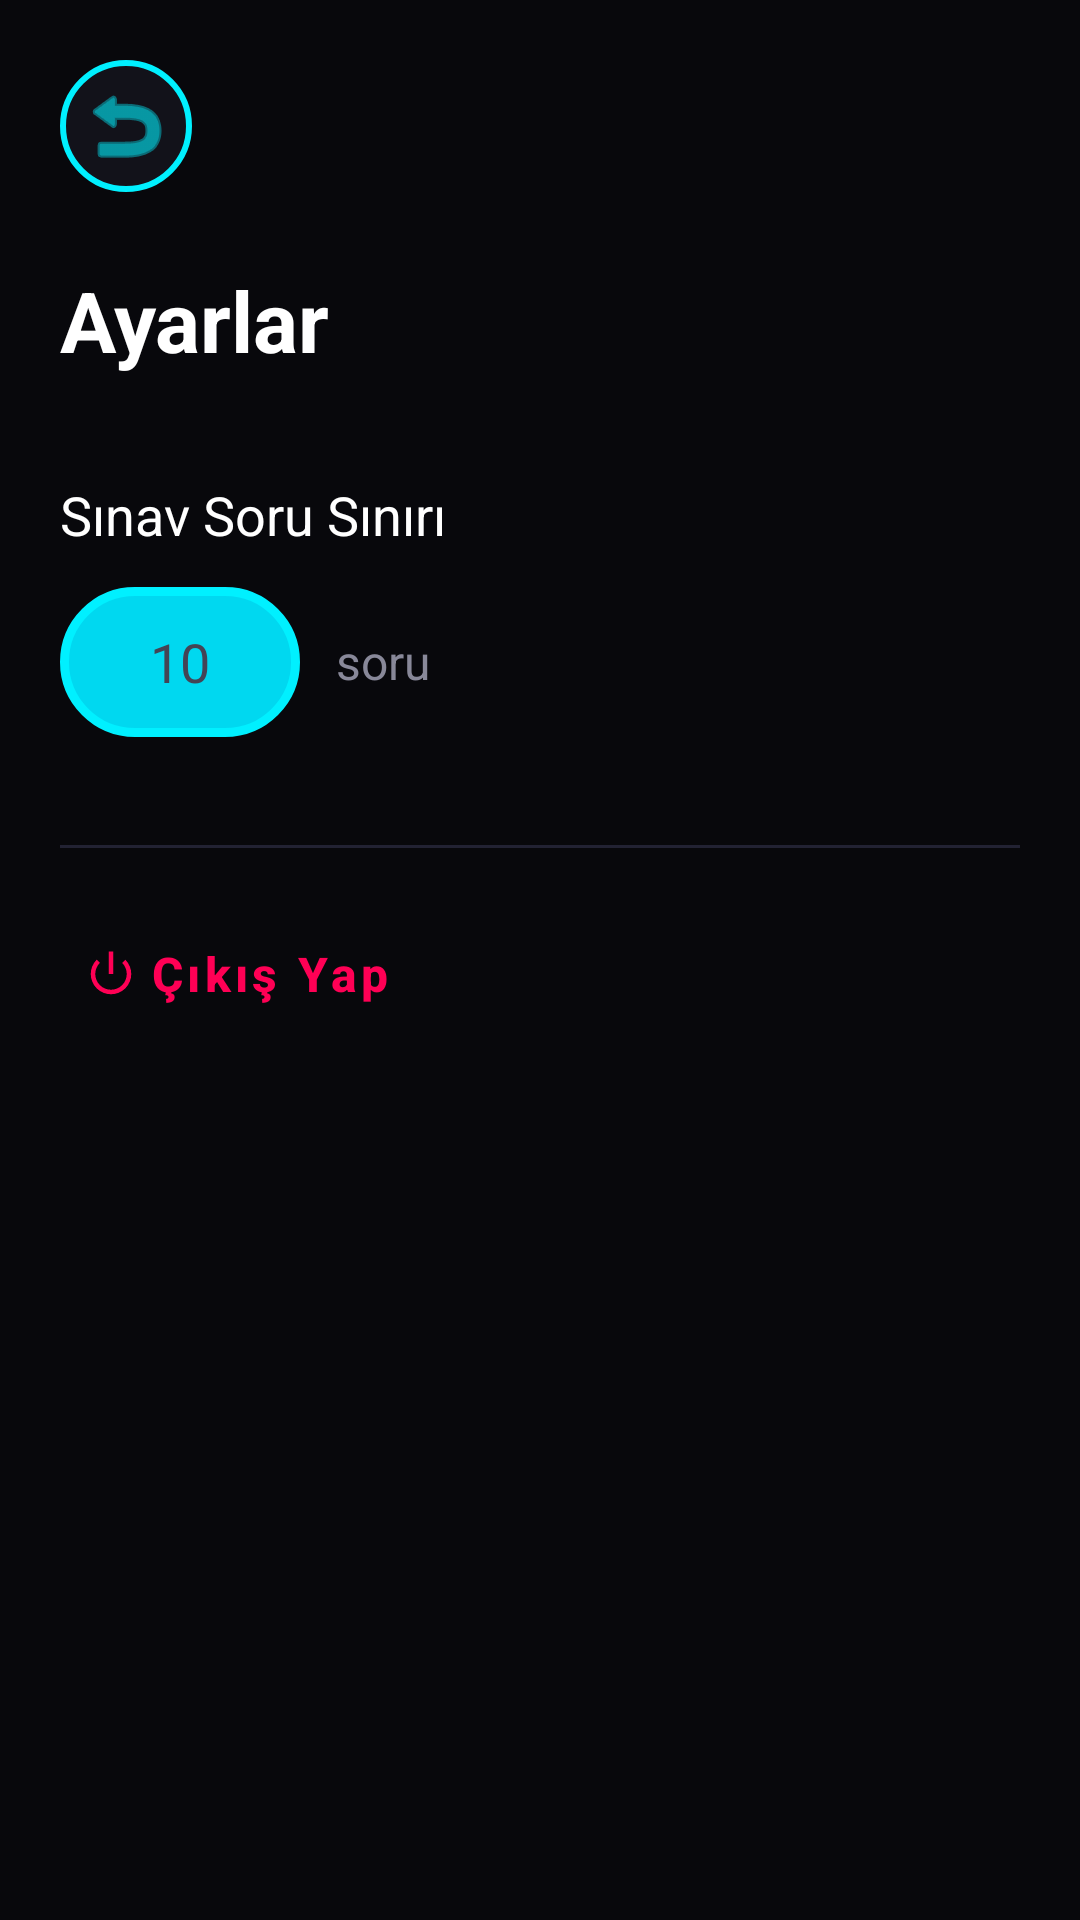

Icons on this 1080px x 1920px Android screen, each with its box as (x1, y1, x2, y2):
Geri Dön: (60, 60, 192, 192)
